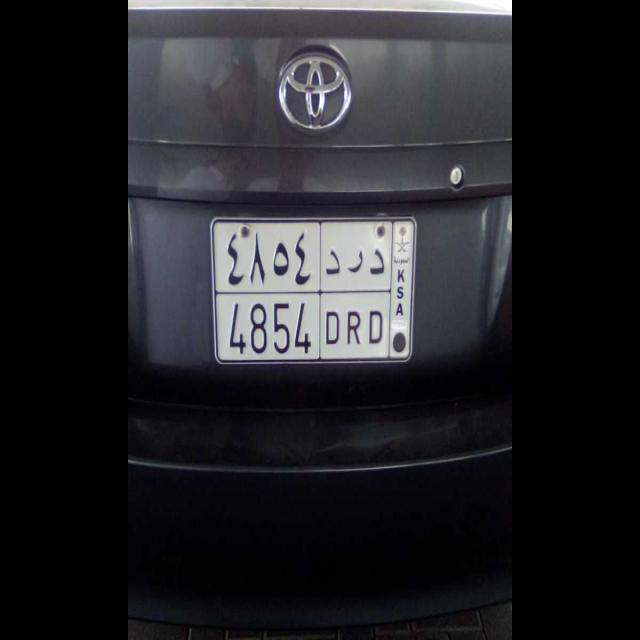license_plate: (216, 290, 392, 368)
